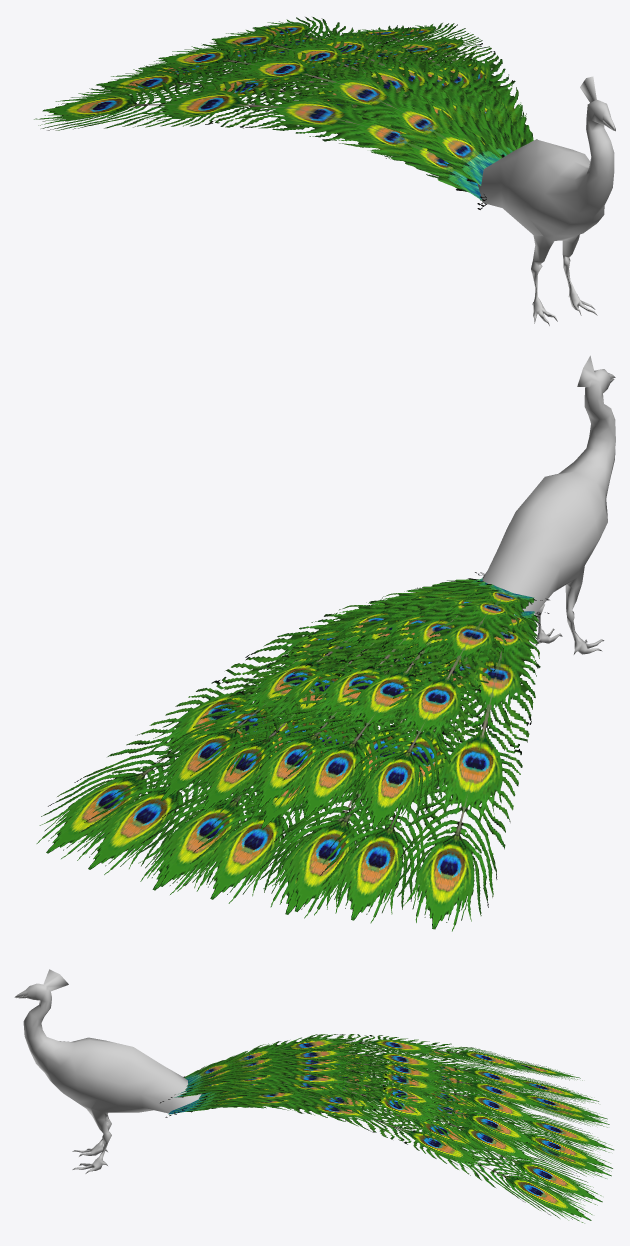
The model's file is 35KongQue.fbx.
3 renders of one model, top to bottom at view 1: azimuth 30°, elevation 25°; view 2: azimuth 150°, elevation 25°; view 3: azimuth 270°, elevation 25°, orthographic. The views are drawn at different scales.
Visible parts, largest first — view 1: polySurface24, polySurface1, polySurface25, polySurface14, polySurface20, polySurface15, polySurface18, polySurface17, polySurface12, polySurface19, polySurface13, polySurface23; view 2: polySurface24, polySurface1, polySurface25, polySurface14, polySurface17, polySurface18, polySurface20, polySurface15, polySurface12, polySurface13, polySurface19, polySurface16 (+4 smaller); view 3: polySurface1, polySurface17, polySurface13, polySurface12, polySurface25, polySurface18, polySurface14, polySurface23, polySurface20, polySurface21, polySurface16, polySurface19 (+4 smaller).
Part boxes in pixels (x1,y1,x2,y2): polySurface24: (34, 82, 482, 209); polySurface1: (477, 76, 615, 325); polySurface25: (149, 41, 504, 200); polySurface14: (201, 25, 510, 198); polySurface20: (241, 17, 516, 152); polySurface15: (86, 63, 486, 206); polySurface18: (346, 27, 524, 148); polySurface17: (382, 23, 537, 144); polySurface12: (297, 32, 518, 195); polySurface19: (138, 49, 486, 204); polySurface13: (341, 25, 526, 146); polySurface23: (243, 42, 484, 198); polySurface24: (395, 611, 549, 931); polySurface1: (482, 355, 615, 654); polySurface25: (344, 577, 549, 832); polySurface14: (281, 574, 542, 821); polySurface17: (36, 592, 413, 858); polySurface18: (150, 572, 484, 804); polySurface20: (238, 572, 482, 812); polySurface15: (320, 612, 540, 923); polySurface12: (187, 574, 540, 816); polySurface13: (77, 612, 367, 874); polySurface19: (268, 647, 444, 915); polySurface16: (190, 644, 413, 903); polySurface1: (14, 969, 201, 1173); polySurface17: (165, 1100, 592, 1223); polySurface13: (169, 1091, 602, 1205); polySurface12: (162, 1067, 540, 1150); polySurface25: (175, 1034, 536, 1094); polySurface18: (160, 1075, 537, 1166); polySurface14: (171, 1045, 545, 1097); polySurface23: (187, 1057, 544, 1128); polySurface20: (168, 1053, 547, 1111); polySurface21: (174, 1083, 612, 1171); polySurface16: (178, 1072, 613, 1152); polySurface19: (180, 1060, 607, 1121).
Size of the model in its own units: 118 by 66.48 by 185.
